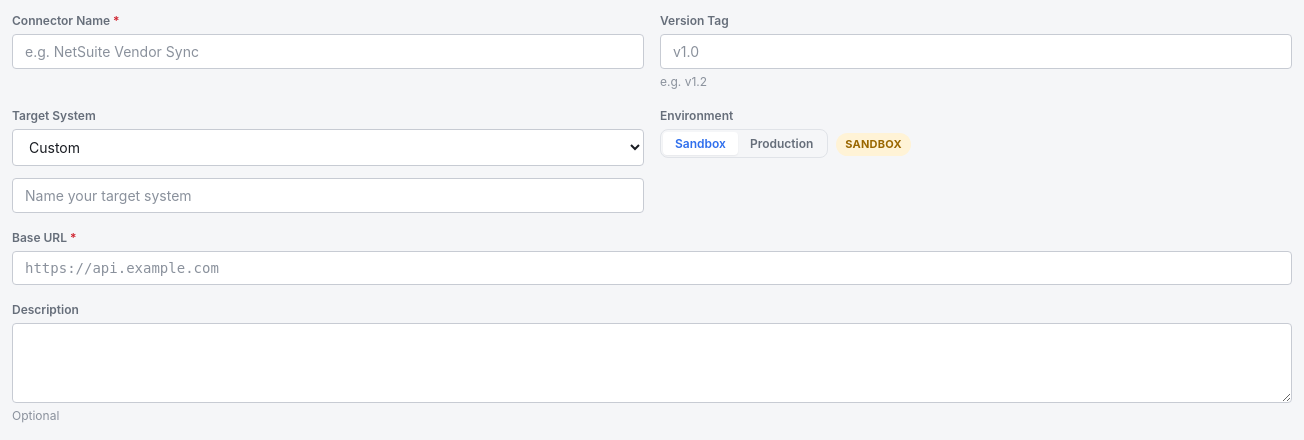
Test: ConnectorForm › shows a required error for an empty name only after the field is blurred
Expected: the text "Connector name is required." is not shown
Click the field labelled "Connector Name *". click: (328, 52)
box: [12,34,644,69]
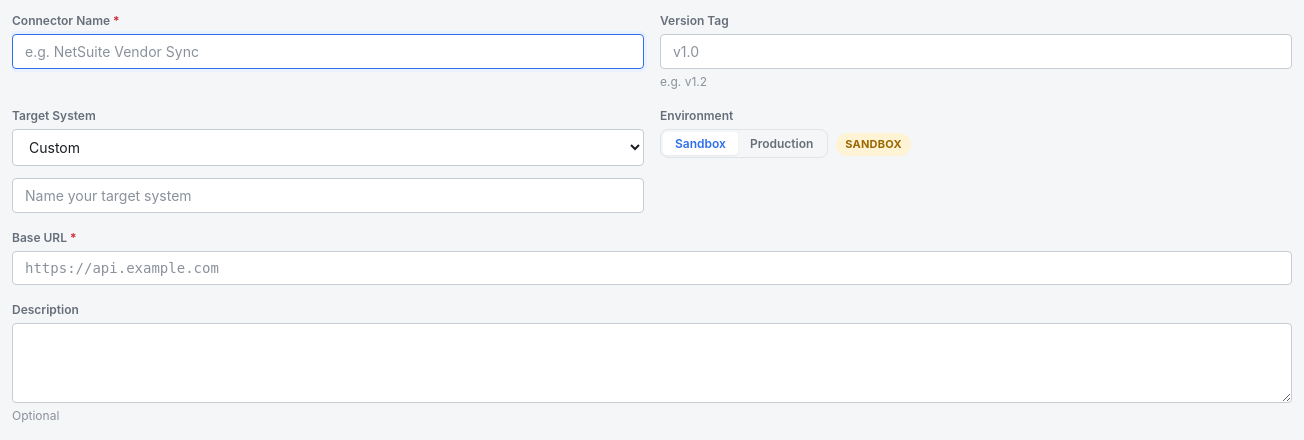
Press Tab
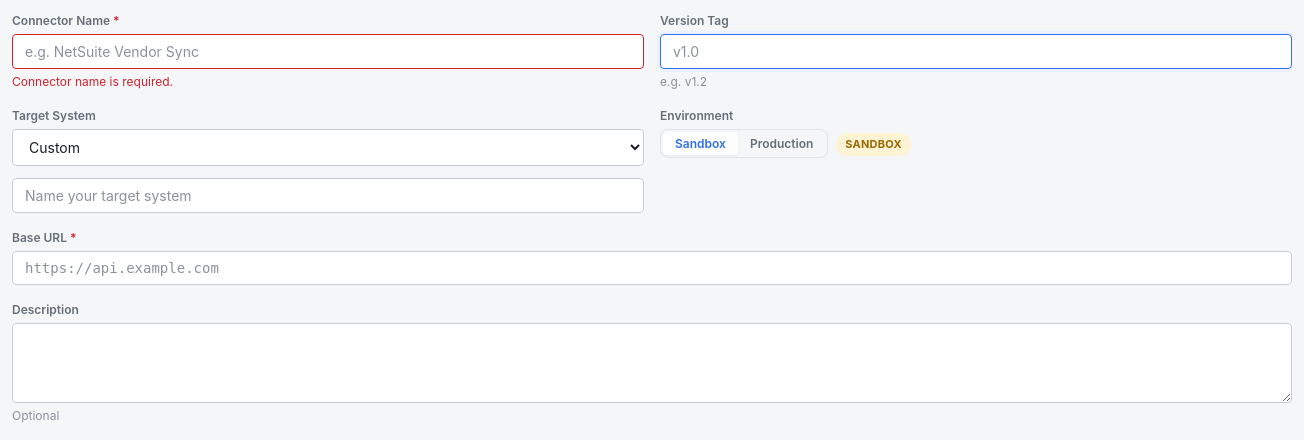
Now the text "Connector name is required." is shown, box [12,74,173,89]
